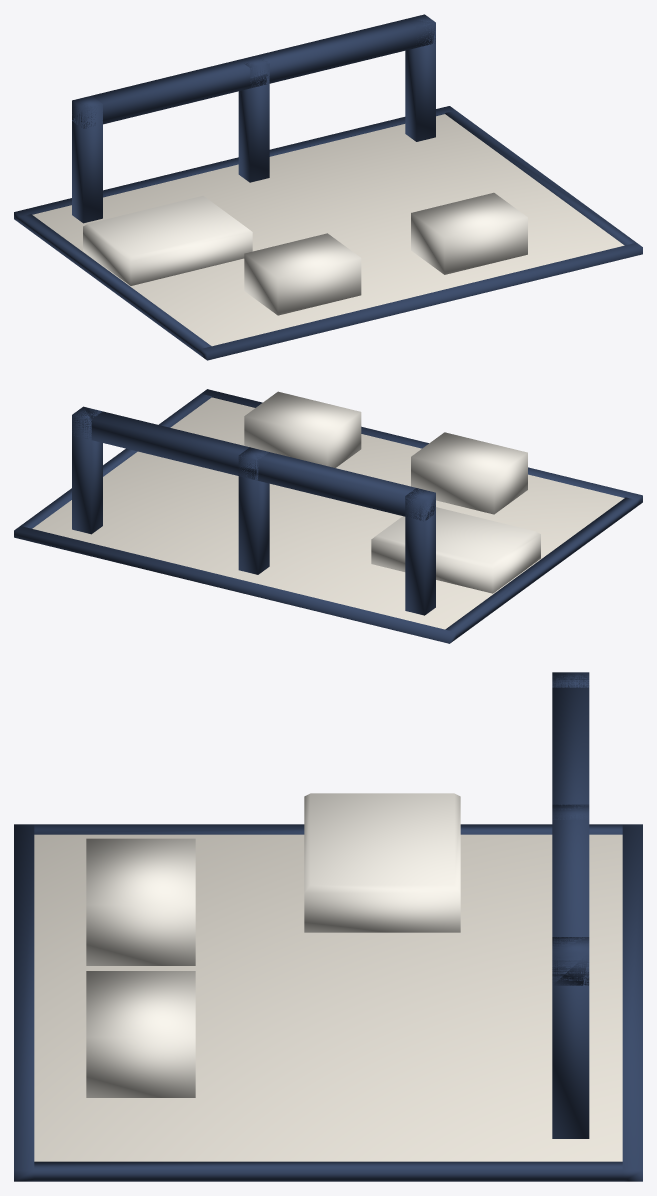
File: subestacao.glb
3 views of the same model, one above another, from view 1: azimuth 30°, elevation 25°; view 2: azimuth 150°, elevation 25°; view 3: azimuth 270°, elevation 25° (orthographic). The views are drawn at different scales.
Parts seen in each view (by area): view 1: subestacao; view 2: subestacao; view 3: subestacao.
Part boxes in pixels (<box>): subestacao: <box>14,14,642,360</box>; subestacao: <box>14,389,642,643</box>; subestacao: <box>14,672,642,1181</box>.
Bounding box in the file's own units: 68 × 18 × 52.24.
